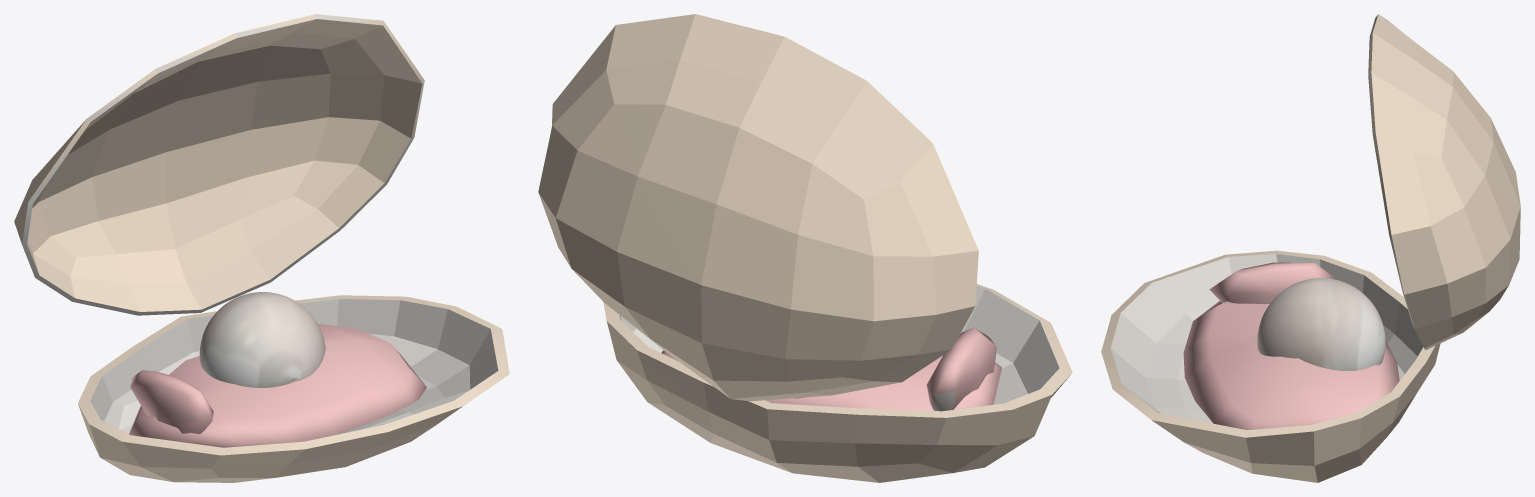
Rendered from Shhell.fbx.
3 views of the same model, side by side, from view 1: azimuth 30°, elevation 25°; view 2: azimuth 150°, elevation 25°; view 3: azimuth 270°, elevation 25° (orthographic). The views are drawn at different scales.
Parts seen in each view (by area): view 1: node-0.001, node-0, Object_5.001; view 2: node-0.001, node-0; view 3: node-0, node-0.001, Object_5.001.
Boxes of the visible parts, x1,y1,x2,y2 form: node-0.001: [14, 14, 424, 315]; node-0: [78, 295, 509, 482]; Object_5.001: [199, 292, 325, 387]; node-0.001: [538, 14, 978, 401]; node-0: [603, 284, 1072, 482]; node-0: [1101, 250, 1440, 482]; node-0.001: [1368, 14, 1520, 349]; Object_5.001: [1257, 278, 1385, 370].
Size of the model in its own units: 4356 by 4209 by 3928.
